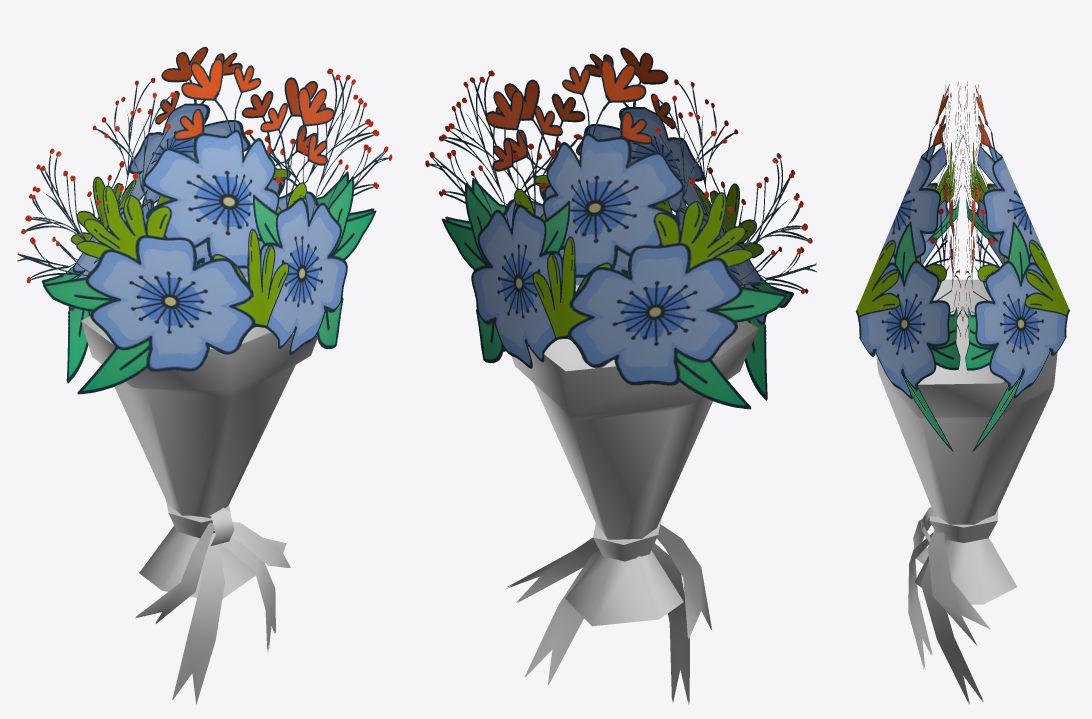
Rendered from Bouquet_02.fbx.
3 views of the same model, side by side, from view 1: azimuth 30°, elevation 25°; view 2: azimuth 150°, elevation 25°; view 3: azimuth 270°, elevation 25° (orthographic). The views are drawn at different scales.
Parts seen in each view (by area): view 1: Bouquet_02; view 2: Bouquet_02; view 3: Bouquet_02.
Boxes of the visible parts, x1,y1,x2,y2 form: Bouquet_02: (17,47,392,704); Bouquet_02: (425,47,816,704); Bouquet_02: (856,81,1069,703).
Size of the model in its own units: 1.38 by 2.31 by 0.7649.
